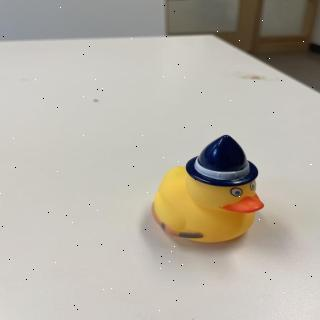duck_specialty: (150, 134, 268, 246)
